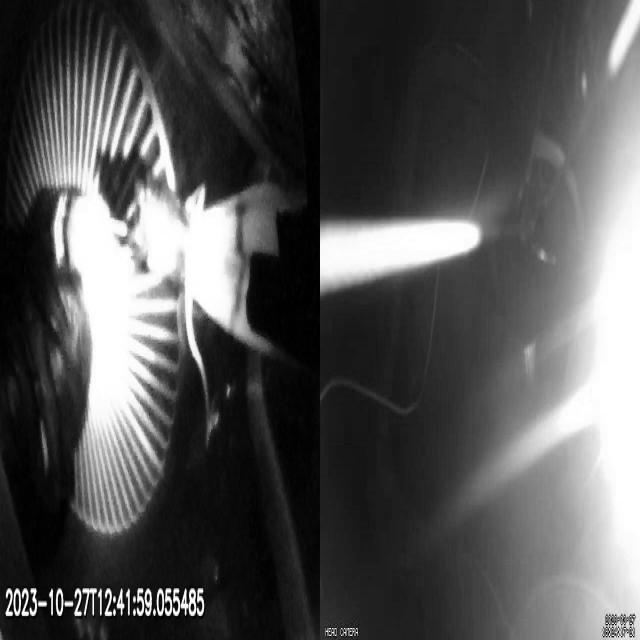head: (55, 184, 111, 280)
